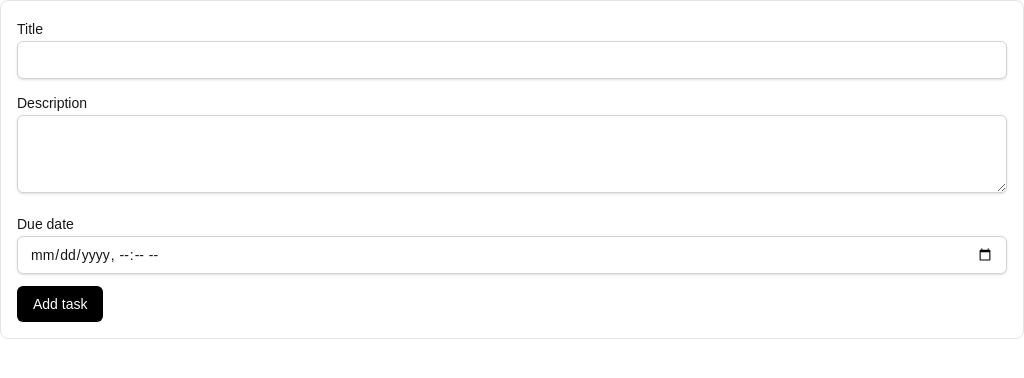
Test case: CreateTaskForm › due date rule (AC-2.1b, AC-2.4, AC-2.6a) › shows an error only beside the invalid fields (AC-2.8)
In the text box labelled "Description": (512, 154) [17,115,1007,193], type "fine"
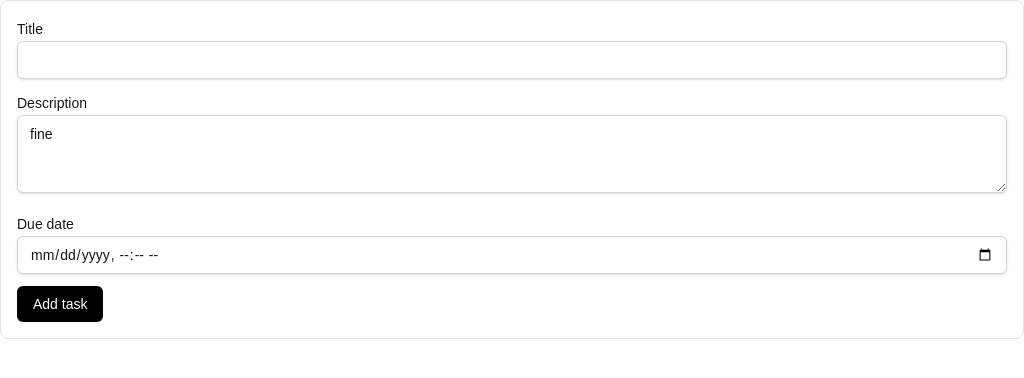
In the field labelled "Due date": (512, 255) [17,236,1007,274], type "2027-03-05T17:00"
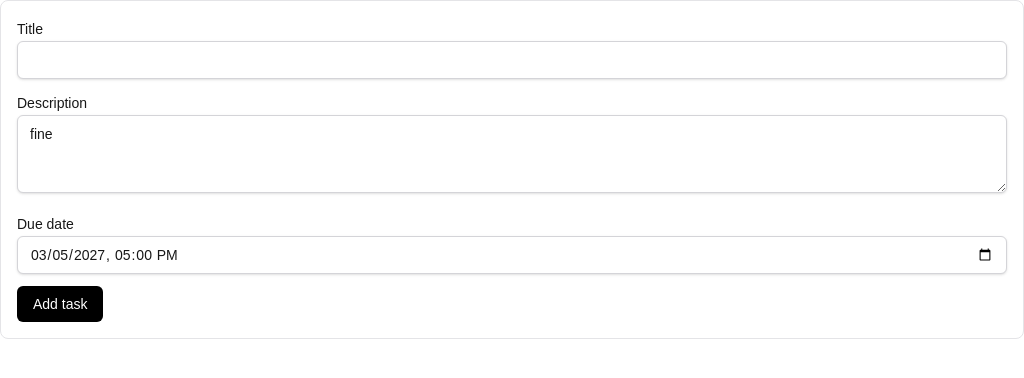
Click the button "Add task": (60, 304) [17,286,104,322]
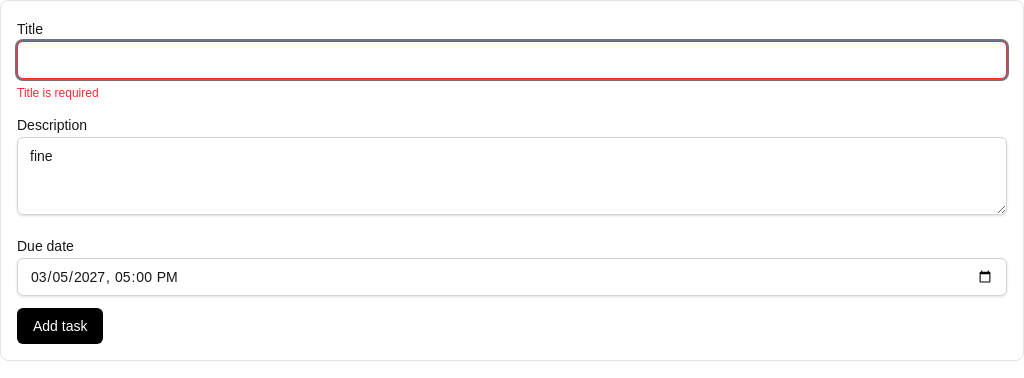
Expected: the number of messages is 1, [17,86,99,100]
